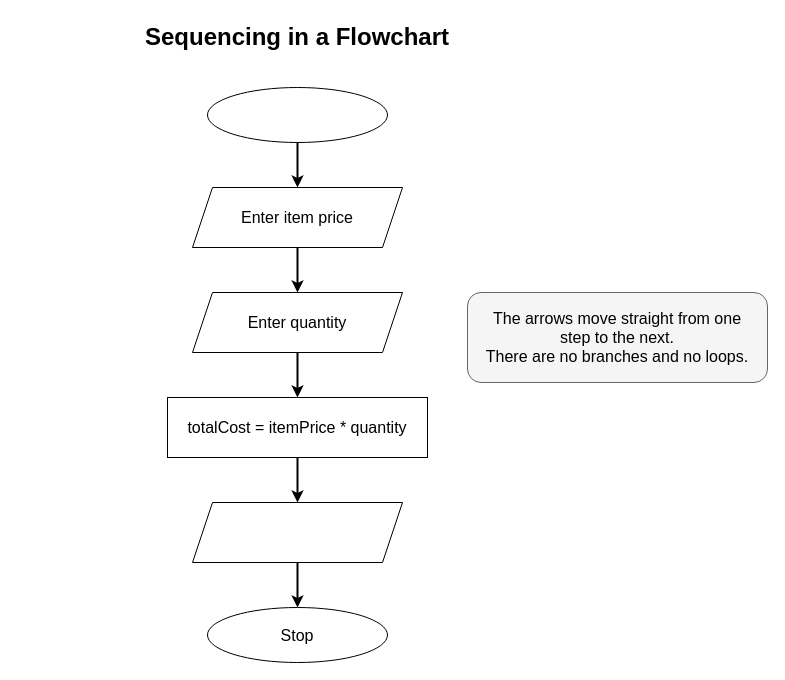
This 785x680 diagram has some shape labels left out. The centre of each missing label's shape, as x and y in pixels:
Display totalCost: the point at 297,532
Start: the point at 297,114
